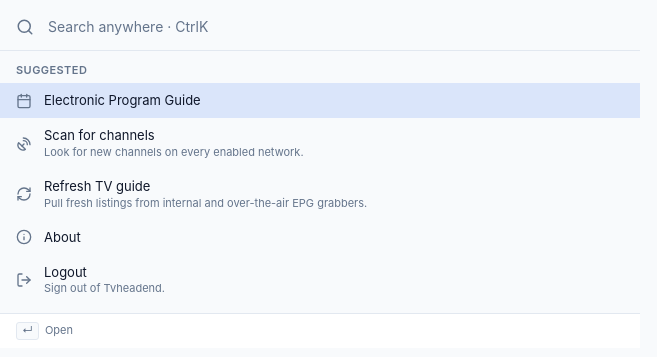
it: CommandPalette › typing into the input updates the query and filters results
The image size is (657, 357).
Type "about" into the dropdown with class "command-palette__input" at (335, 27), box x1=46 y1=16 x2=624 y2=38
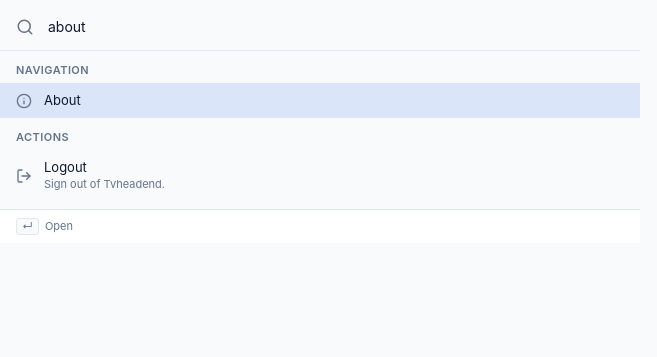
Expected: the text with class "command-palette__row-label" reads "About", x1=44 y1=92 x2=81 y2=108
Result: the option with class "command-palette__row-label" no longer shows "Electronic Program Guide"
